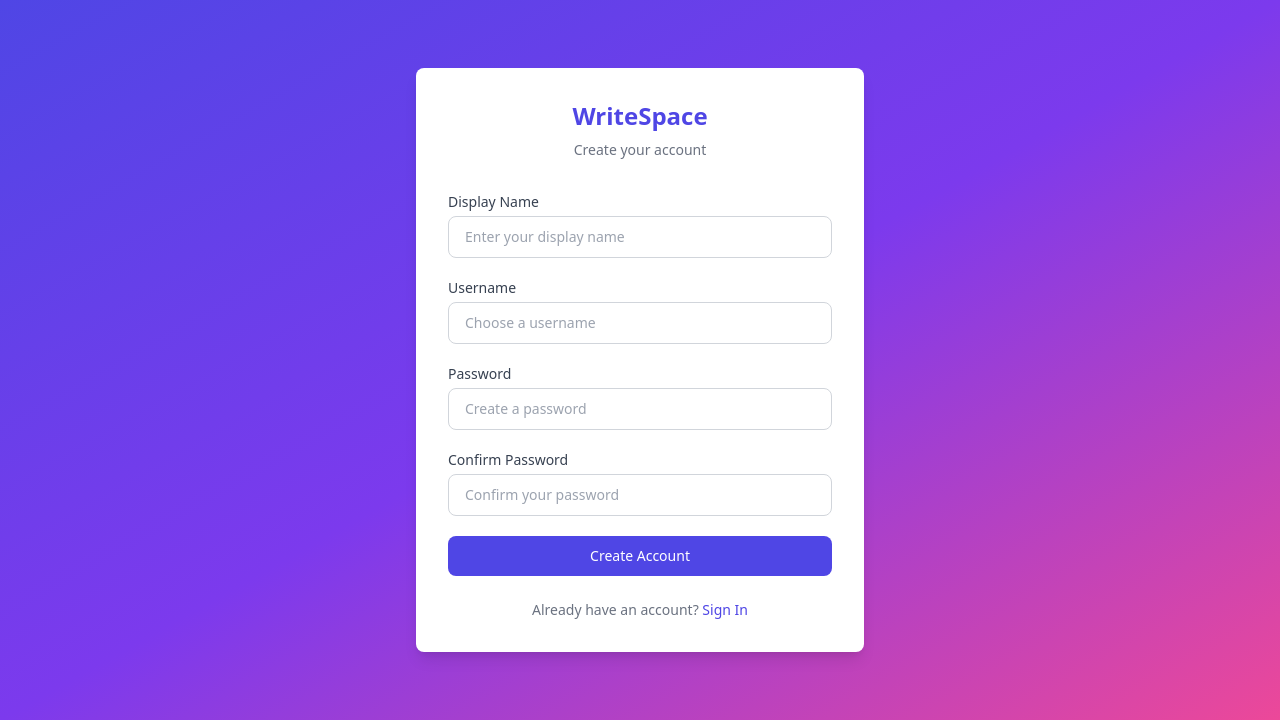
RegisterPage › validation › displays error when all fields are empty
Click the button "Create Account": point(640, 556) [448,536,832,576]
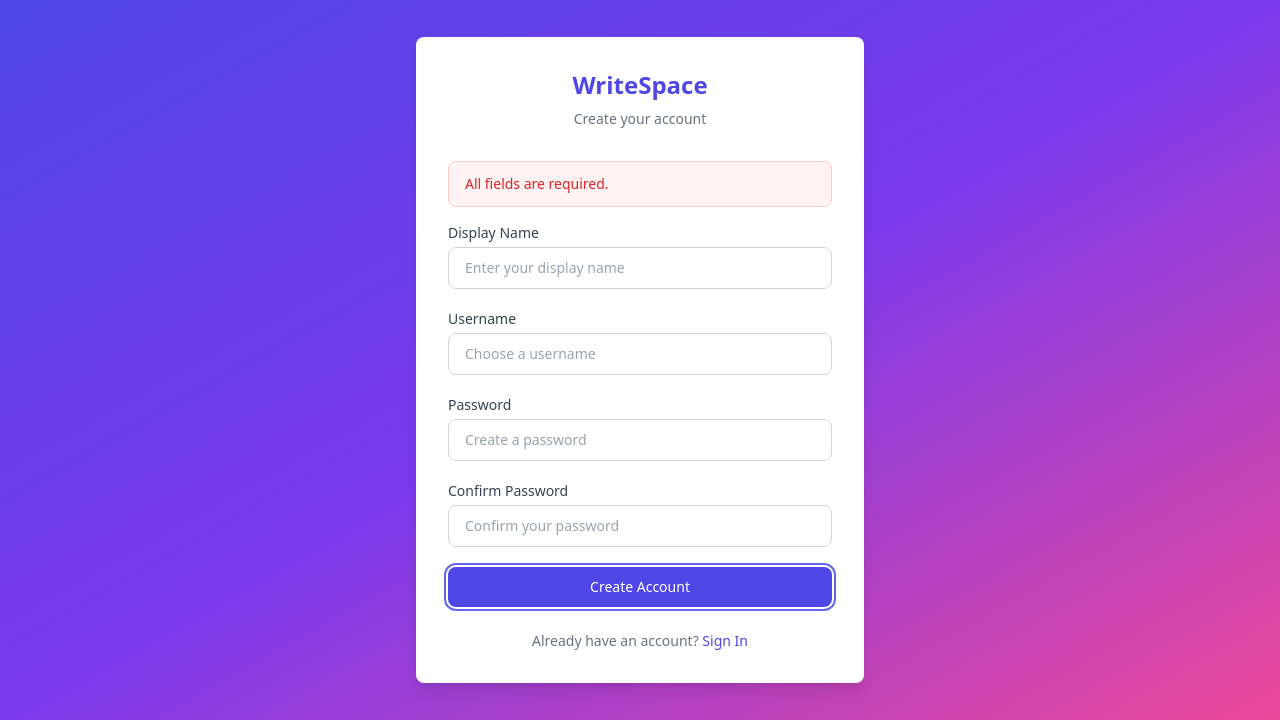
Expected: the text "All fields are required." is shown, [448,161,832,207]
